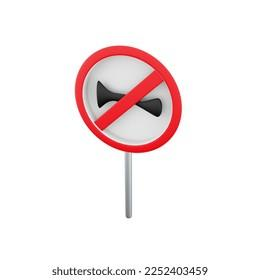Horn Prohibited: (68, 44, 185, 159)
